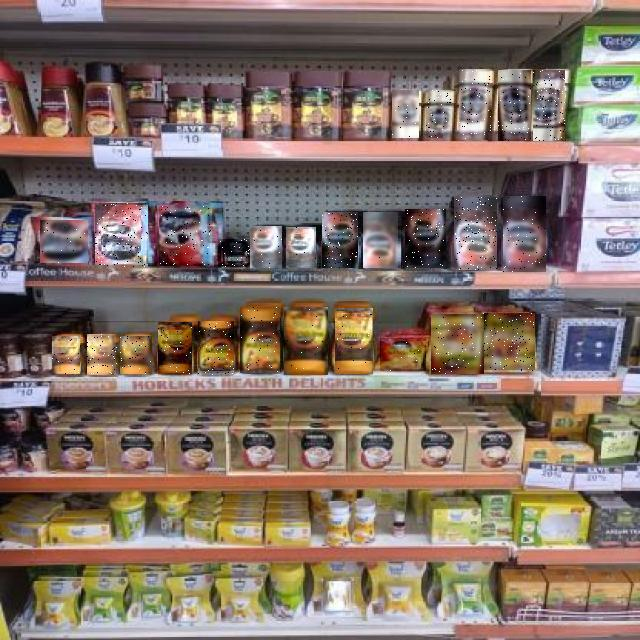Coffee: (95, 204, 148, 268), (503, 196, 546, 272), (454, 195, 497, 270), (431, 314, 484, 374), (160, 206, 212, 266), (483, 314, 535, 372), (284, 307, 328, 375), (240, 307, 280, 373), (335, 308, 373, 374), (405, 209, 446, 268), (498, 70, 531, 141), (460, 69, 492, 140), (533, 70, 565, 141), (40, 220, 88, 263), (322, 212, 358, 268), (364, 212, 400, 268), (198, 322, 234, 376), (159, 323, 193, 375), (380, 338, 426, 371), (250, 226, 282, 268), (392, 90, 419, 138), (426, 91, 452, 139), (287, 227, 317, 268), (88, 334, 118, 375), (120, 337, 152, 375), (52, 337, 80, 375), (218, 239, 250, 267)
